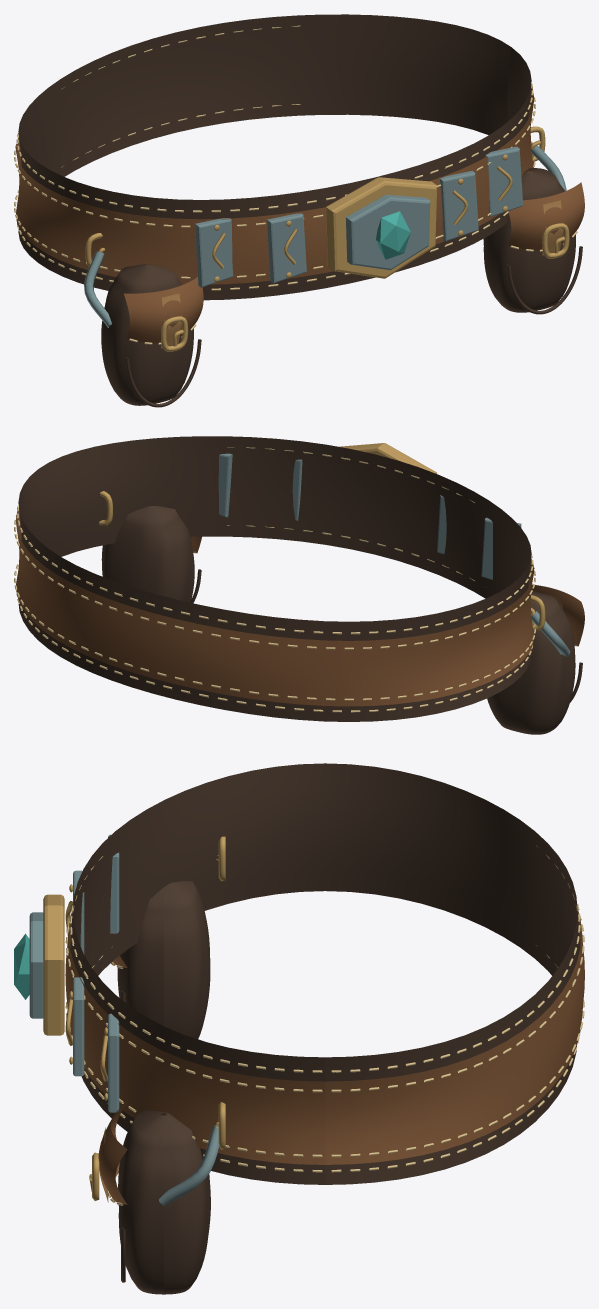
The model's file is deep_delvers_belt.glb.
3 renders of one model, top to bottom at view 1: azimuth 30°, elevation 25°; view 2: azimuth 150°, elevation 25°; view 3: azimuth 270°, elevation 25°, orthographic. The views are drawn at different scales.
Parts seen in each view (by area): view 1: deep_delvers_belt-dark, deep_delvers_belt-leather, deep_delvers_belt-iron, deep_delvers_belt-brass, deep_delvers_belt-stitch, deep_delvers_belt-teal, deep_delvers_belt-trim; view 2: deep_delvers_belt-dark, deep_delvers_belt-leather, deep_delvers_belt-stitch, deep_delvers_belt-iron, deep_delvers_belt-brass; view 3: deep_delvers_belt-dark, deep_delvers_belt-leather, deep_delvers_belt-iron, deep_delvers_belt-brass, deep_delvers_belt-stitch, deep_delvers_belt-teal.
Part boxes in pixels (x1=…): deep_delvers_belt-dark: x1=18, y1=14, x2=582, y2=407; deep_delvers_belt-leather: x1=15, y1=88, x2=584, y2=343; deep_delvers_belt-iron: x1=84, y1=145, x2=566, y2=327; deep_delvers_belt-brass: x1=85, y1=126, x2=569, y2=351; deep_delvers_belt-stitch: x1=14, y1=25, x2=577, y2=344; deep_delvers_belt-teal: x1=376, y1=211, x2=410, y2=259; deep_delvers_belt-trim: x1=161, y1=200, x2=563, y2=348; deep_delvers_belt-dark: x1=18, y1=436, x2=582, y2=734; deep_delvers_belt-leather: x1=15, y1=509, x2=584, y2=706; deep_delvers_belt-stitch: x1=14, y1=447, x2=578, y2=712; deep_delvers_belt-iron: x1=218, y1=453, x2=570, y2=657; deep_delvers_belt-brass: x1=99, y1=443, x2=545, y2=630; deep_delvers_belt-dark: x1=70, y1=763, x2=580, y2=1294; deep_delvers_belt-leather: x1=65, y1=911, x2=584, y2=1204; deep_delvers_belt-iron: x1=29, y1=834, x2=219, y2=1206; deep_delvers_belt-brass: x1=43, y1=836, x2=225, y2=1200; deep_delvers_belt-stitch: x1=65, y1=845, x2=584, y2=1205; deep_delvers_belt-teal: x1=14, y1=933, x2=29, y2=999.
Bounding box in the file's own units: 0.867 × 0.3577 × 0.7012.
